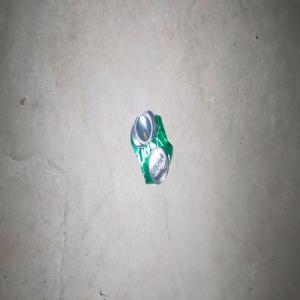SodaCan: (130, 109, 172, 184)
